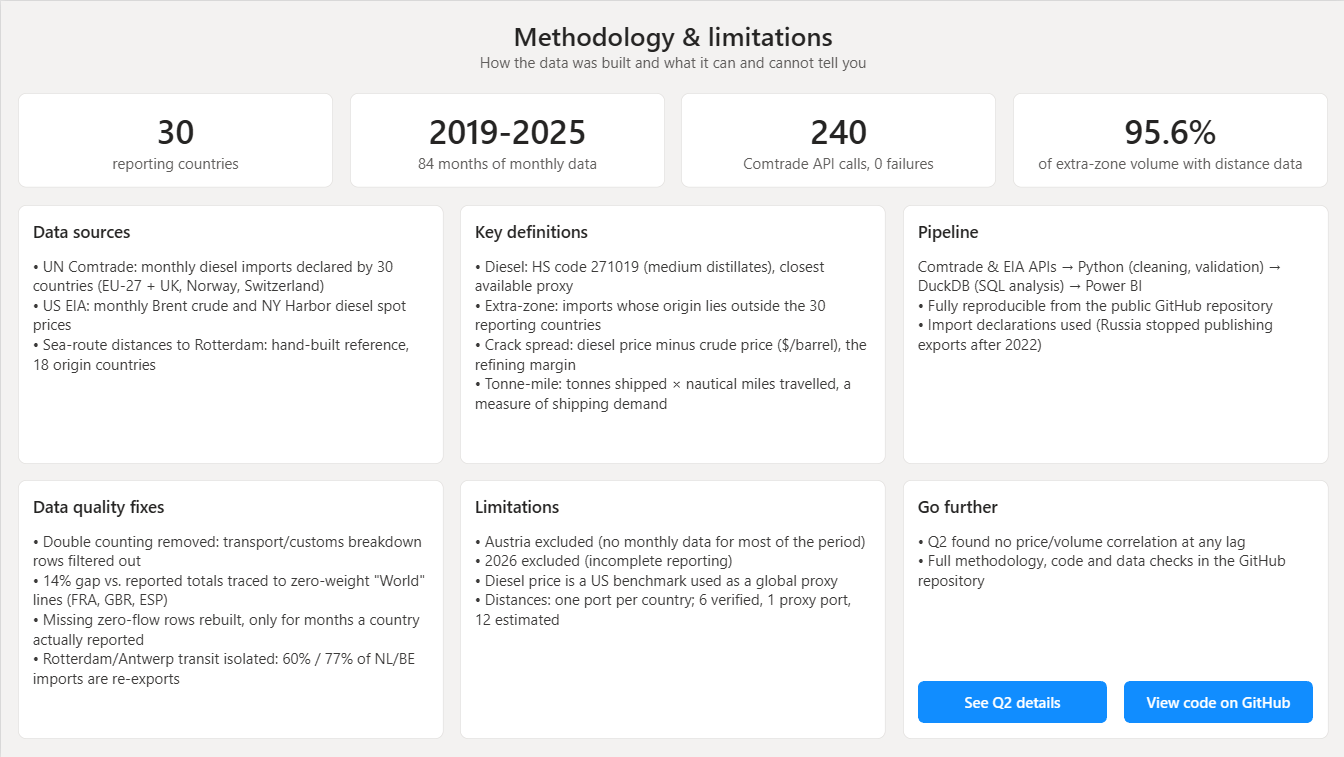

The page's visual inventory and layout, read from the dashboard file:
{"tool":"powerbi","page":{"name":"Methodology","canvas":[1920,1080],"ordinal":3},"visuals":[{"type":"textbox","box":[24,24,1872,84],"z":0},{"type":"textbox","box":[24,132,450,135],"z":1000},{"type":"textbox","box":[498,132,450,135],"z":2000},{"type":"textbox","box":[972,132,450,135],"z":3000},{"type":"textbox","box":[1446,132,450,135],"z":4000},{"type":"textbox","box":[24,291,608,370],"z":5000},{"type":"textbox","box":[656,291,608,370],"z":6000},{"type":"textbox","box":[1288,291,608,370],"z":7000},{"type":"textbox","box":[24,685,608,370],"z":8000},{"type":"textbox","box":[656,685,608,370],"z":9000},{"type":"textbox","box":[1288,685,608,370],"z":10000},{"type":"actionButton","box":[1310,971,270,60],"z":11000},{"type":"actionButton","box":[1604,971,270,60],"z":12000}]}

Visuals, with their boxes in screenshot pixels (x1, y1, x2, y2), scaled from the page's 1920x1080 canvas onto the 1344x757 screenshot:
textbox: <bbox>17, 17, 1327, 76</bbox>
textbox: <bbox>17, 93, 332, 187</bbox>
textbox: <bbox>349, 93, 664, 187</bbox>
textbox: <bbox>680, 93, 995, 187</bbox>
textbox: <bbox>1012, 93, 1327, 187</bbox>
textbox: <bbox>17, 204, 442, 463</bbox>
textbox: <bbox>459, 204, 885, 463</bbox>
textbox: <bbox>902, 204, 1327, 463</bbox>
textbox: <bbox>17, 480, 442, 739</bbox>
textbox: <bbox>459, 480, 885, 739</bbox>
textbox: <bbox>902, 480, 1327, 739</bbox>
actionButton: <bbox>917, 681, 1106, 723</bbox>
actionButton: <bbox>1123, 681, 1312, 723</bbox>
